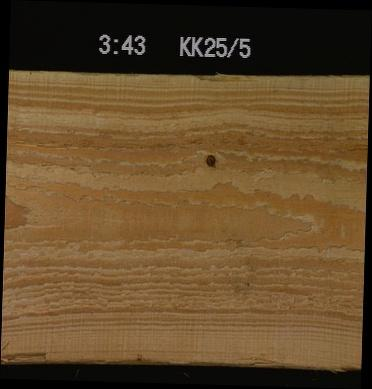dry_knot: (203, 152, 216, 167)
wave: (96, 358, 360, 368), (188, 73, 257, 80)
